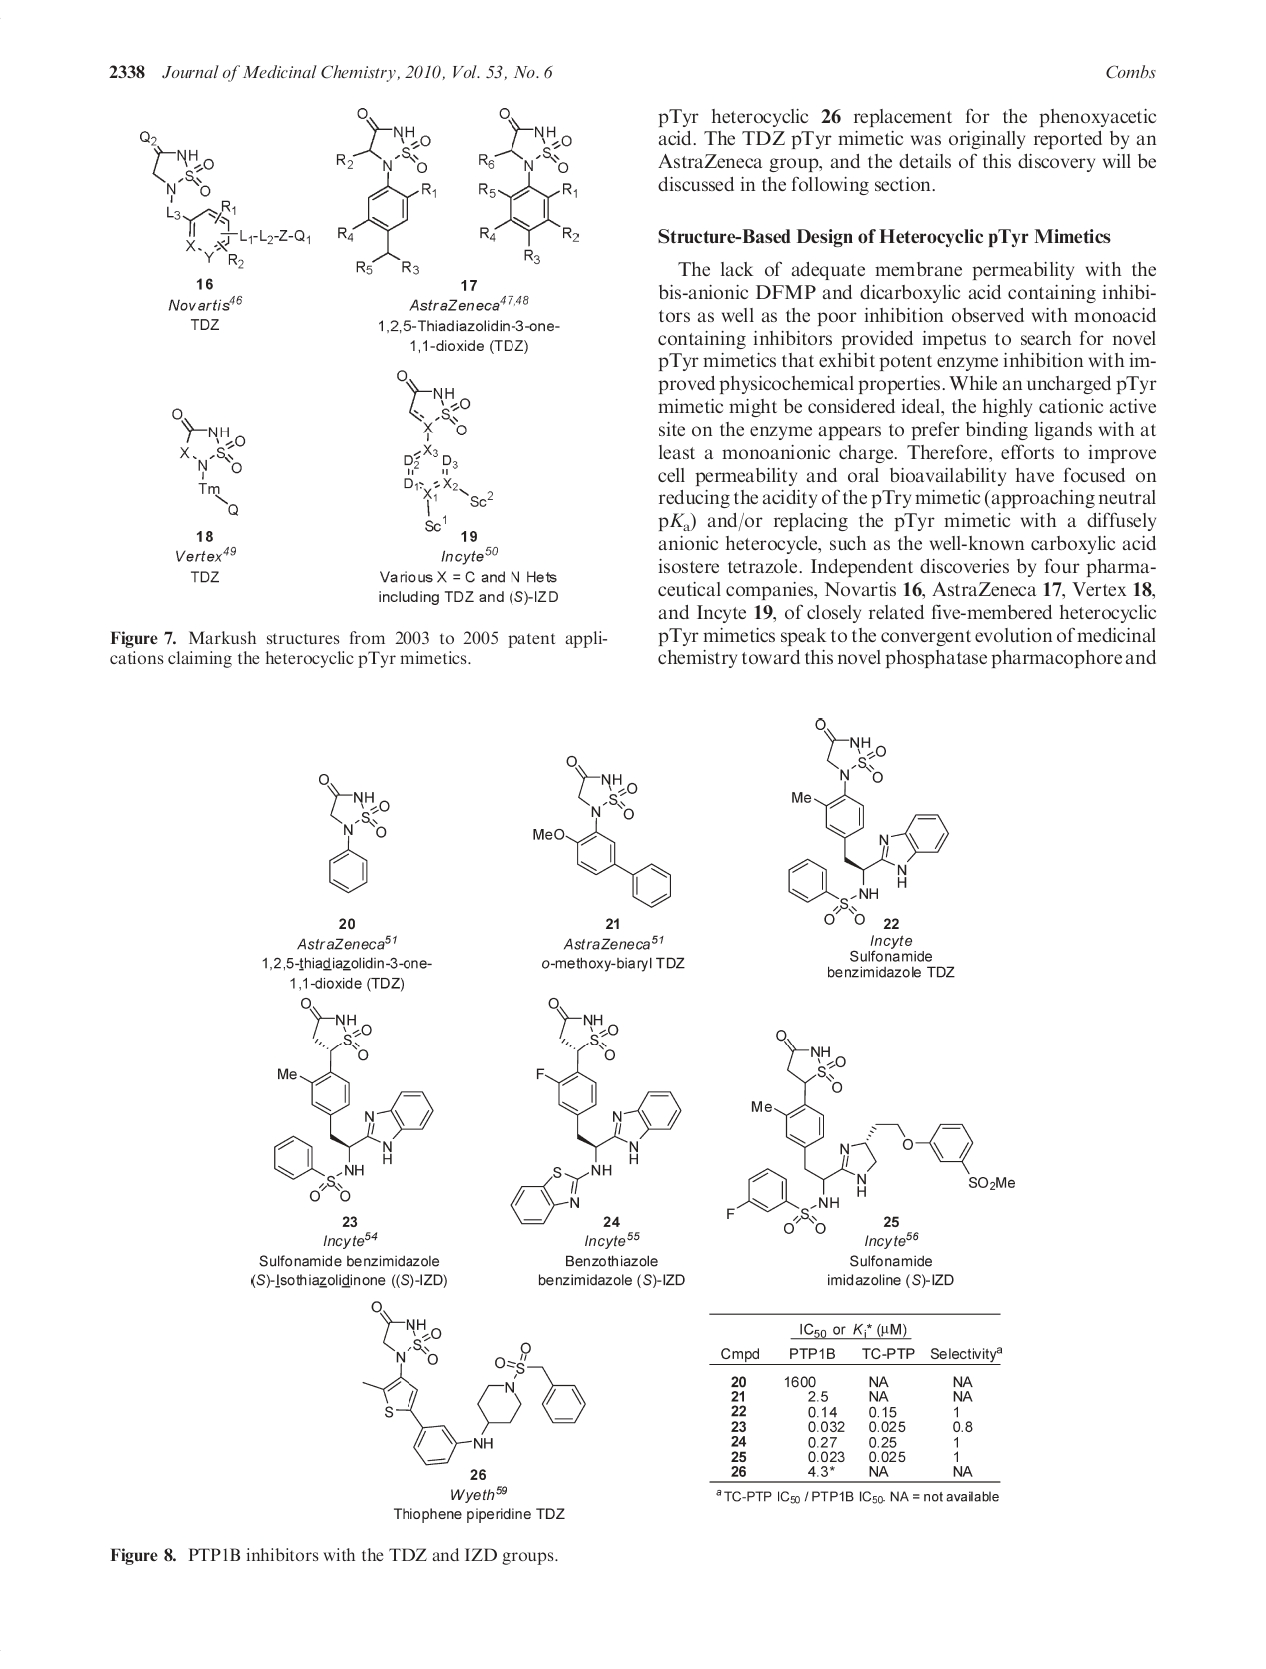exist_molecular: (723, 1025, 1019, 1237), (509, 996, 684, 1227), (360, 1298, 589, 1467), (785, 715, 951, 926), (273, 997, 434, 1204), (136, 126, 314, 269), (531, 754, 673, 910), (394, 364, 496, 535), (335, 106, 438, 275), (477, 106, 582, 265), (316, 771, 391, 892), (169, 406, 245, 519)
